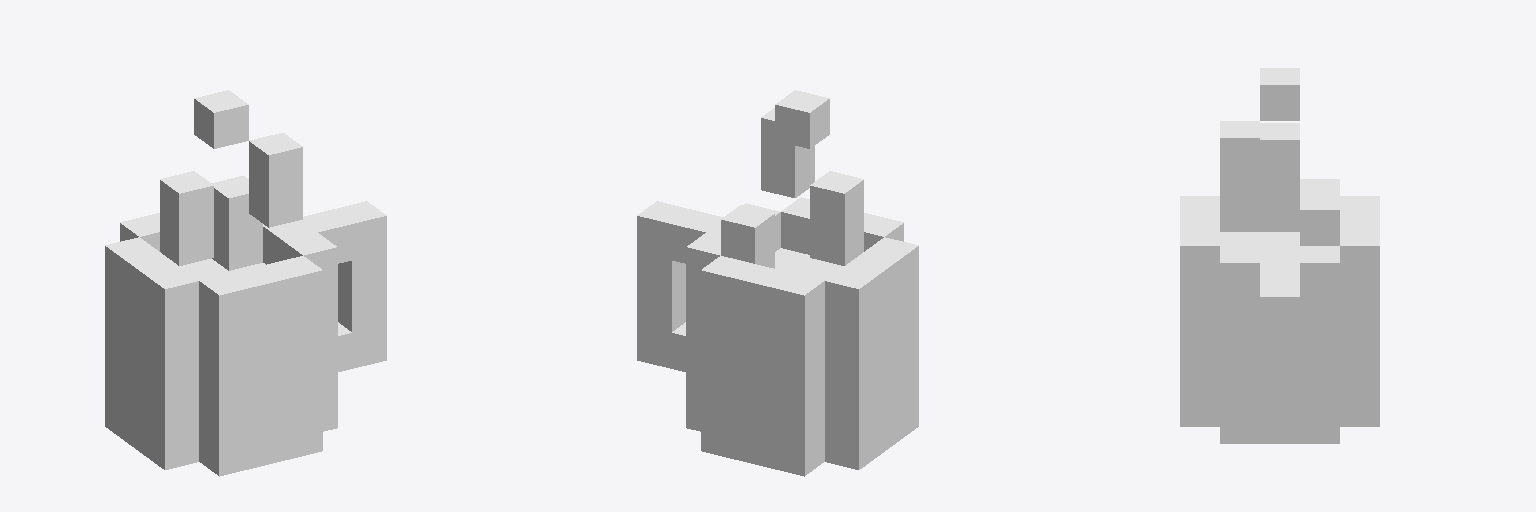
Rendered from glue_mug.obj.
3 renders of one model, left to right at view 1: azimuth 30°, elevation 25°; view 2: azimuth 150°, elevation 25°; view 3: azimuth 270°, elevation 25°, orthographic.
Visible parts, largest first — view 1: object 1; view 2: object 1; view 3: object 1.
Boxes of the visible parts, <box> form: object 1: <box>105,90,386,476</box>; object 1: <box>637,90,918,476</box>; object 1: <box>1180,68,1379,443</box>.
Bounding box in the file's own units: 0.7 × 0.9 × 0.5.